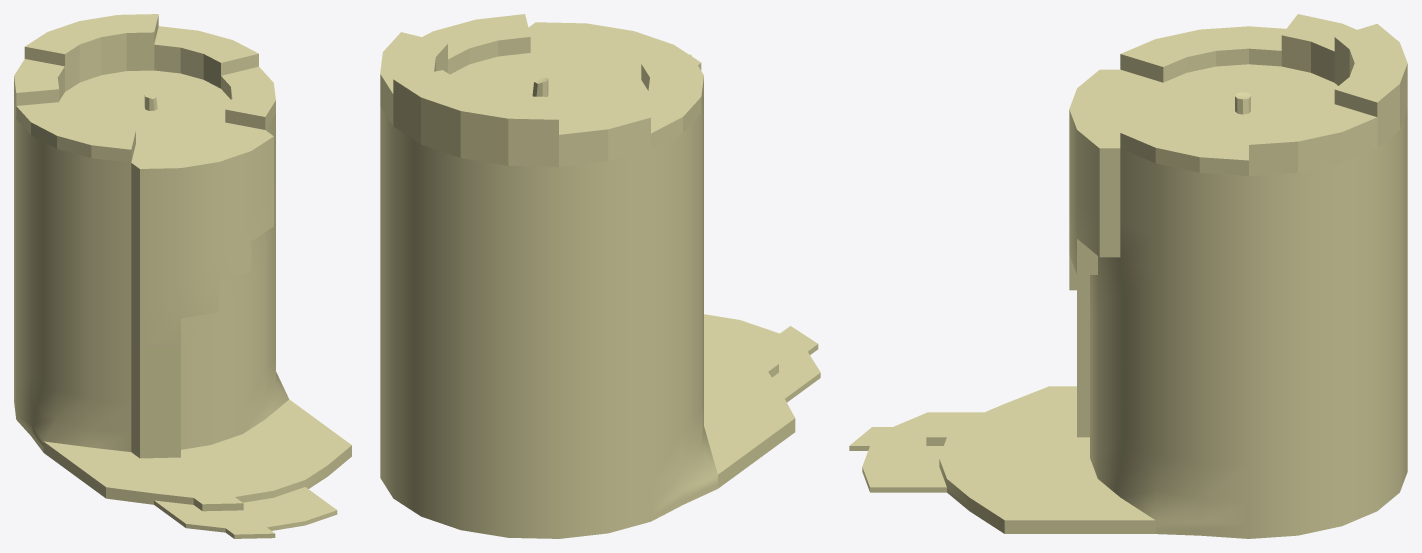
File: Candle_Large.fbx
3 views of the same model, side by side, from view 1: azimuth 30°, elevation 25°; view 2: azimuth 150°, elevation 25°; view 3: azimuth 270°, elevation 25° (orthographic). The views are drawn at different scales.
Visible parts, largest first — view 1: Candle_LargeShape; view 2: Candle_LargeShape; view 3: Candle_LargeShape.
Boxes of the visible parts, x1,y1,x2,y2 form: Candle_LargeShape: (14,14,351,538); Candle_LargeShape: (380,14,820,538); Candle_LargeShape: (849,14,1407,538).
Size of the model in its own units: 0.2728 by 0.3747 by 0.4638.
